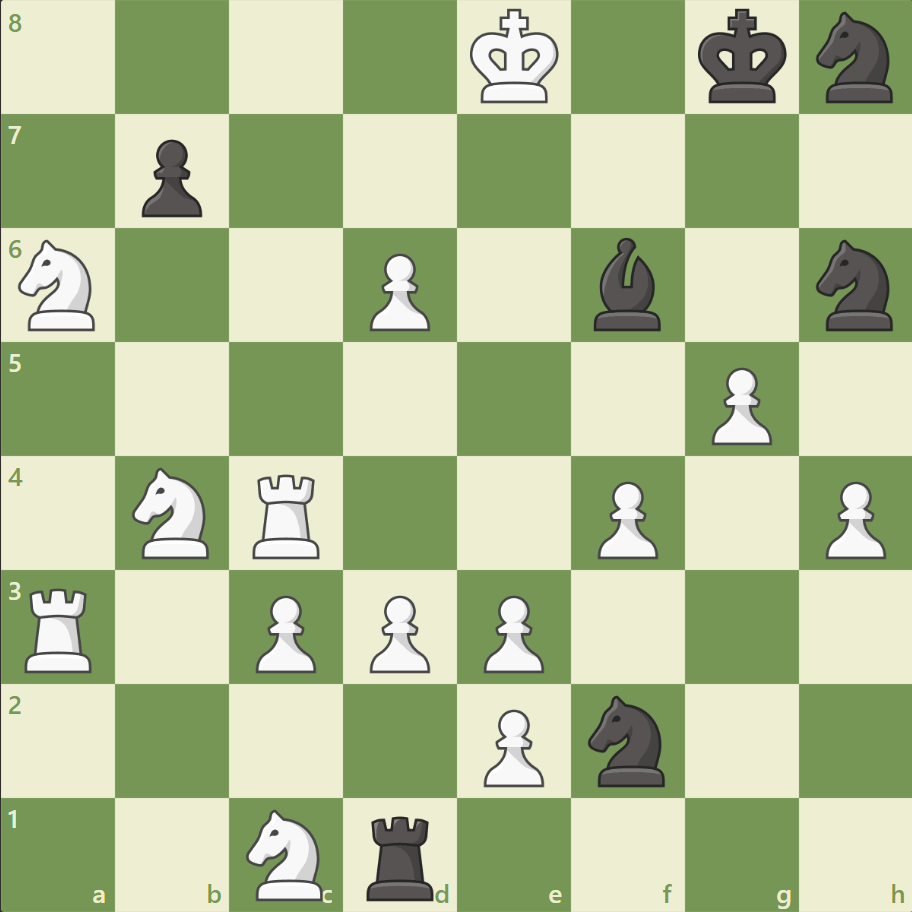K: (465, 4, 565, 112)
N: (124, 461, 222, 564), (11, 234, 108, 337), (238, 802, 335, 904)
P: (701, 359, 776, 450), (247, 586, 322, 677), (474, 586, 549, 677), (474, 700, 549, 791), (361, 246, 435, 337), (588, 473, 662, 564), (815, 473, 889, 564), (361, 586, 435, 677)
R: (246, 466, 329, 563), (19, 579, 102, 676)
b: (585, 233, 669, 336)
k: (692, 4, 792, 112)
n: (806, 7, 903, 110), (806, 234, 903, 337), (579, 688, 676, 791)
p: (133, 132, 208, 223)
r: (360, 806, 442, 904)
